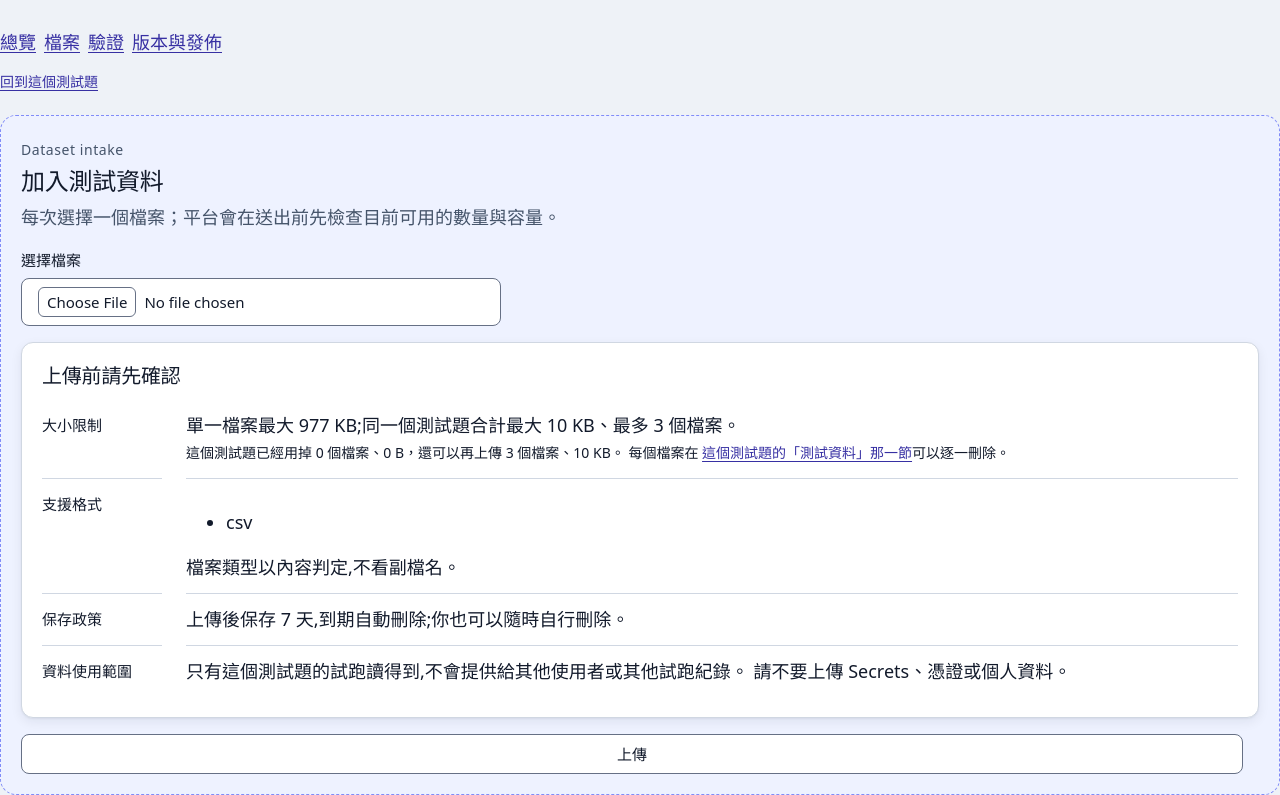
it: a successful upload is announced as a named status
(page scrolled)
Click the button "上傳" at (632, 754), box [21,734,1243,774]
(page scrolled)
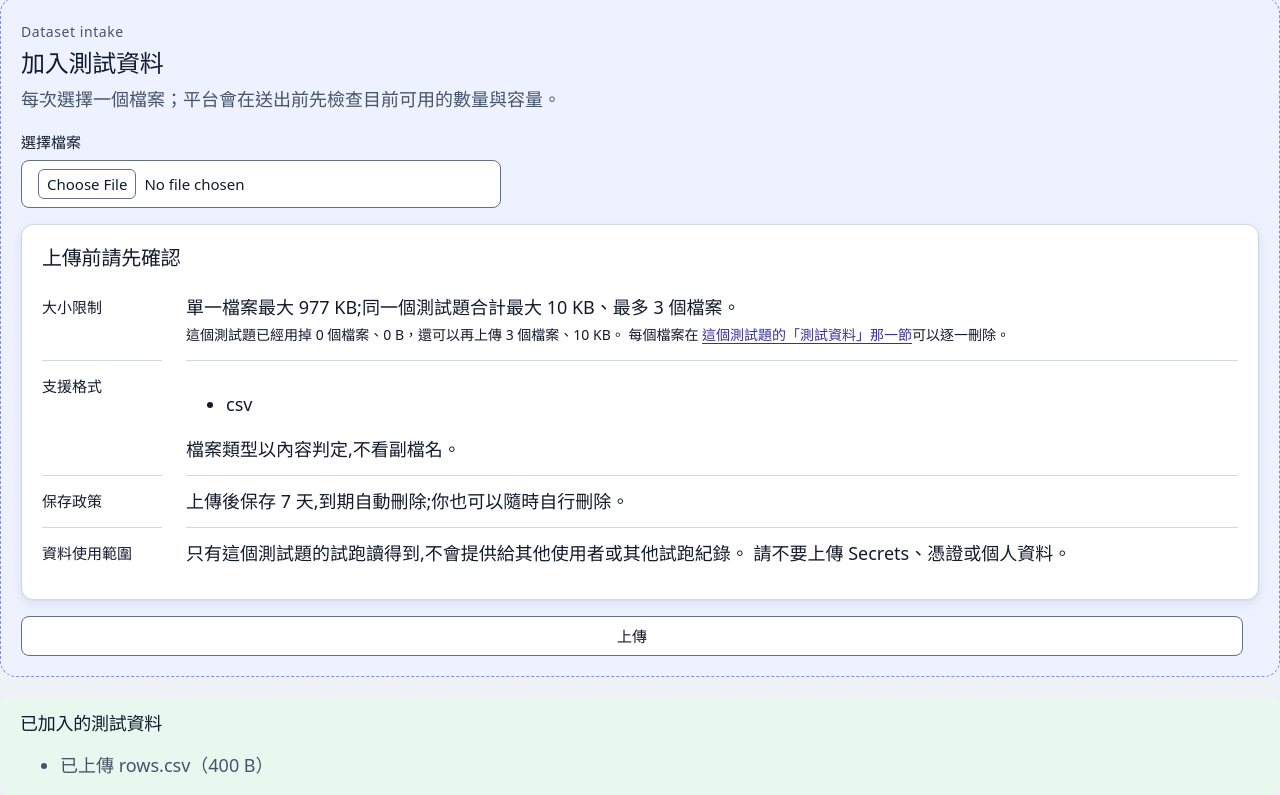
Check: the message named "上傳完成" shows "已上傳 rows.csv", box [0,696,1279,794]
